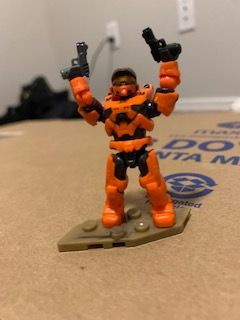pistol: (139, 25, 187, 64), (57, 39, 96, 81)
spartan: (68, 46, 185, 231)
up: (67, 56, 185, 136)
